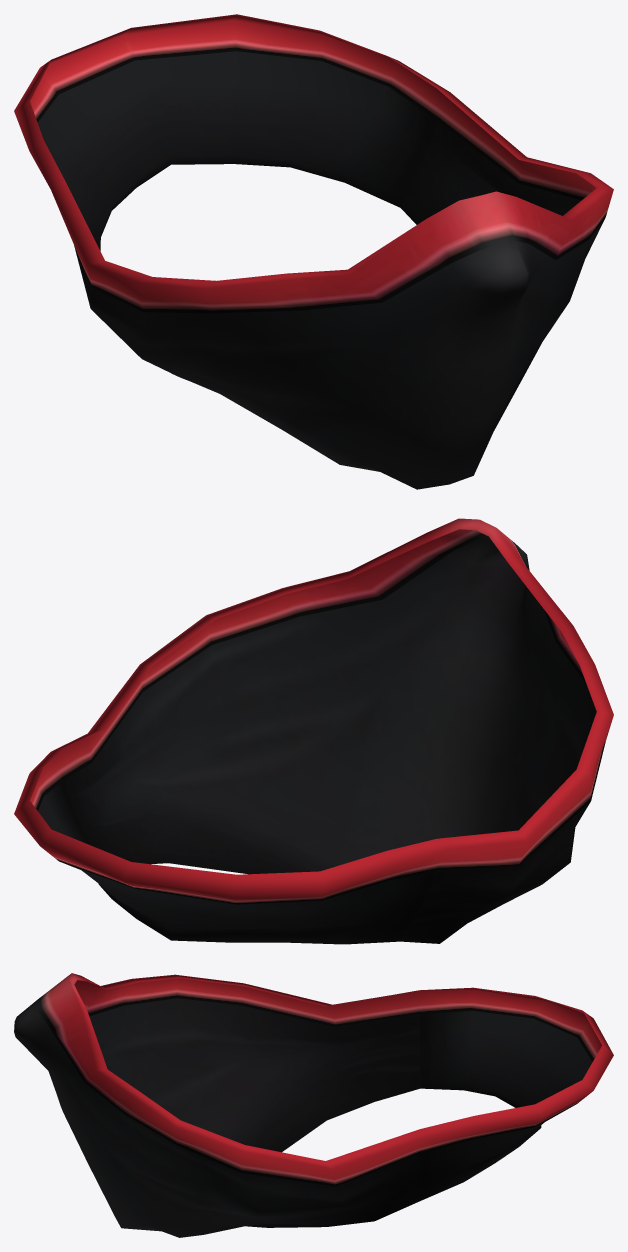
The model's file is m_mask_verizon2020.fbx.
The picture shows the model from 3 angles, top to bottom: view 1: azimuth 30°, elevation 25°; view 2: azimuth 150°, elevation 25°; view 3: azimuth 270°, elevation 25°; orthographic projection. The views are drawn at different scales.
Visible parts, largest first — view 1: m_mask_verizon2020; view 2: m_mask_verizon2020; view 3: m_mask_verizon2020.
Part boxes in pixels (box(x1,y1,x2,y2)): m_mask_verizon2020: box(14, 14, 613, 489); m_mask_verizon2020: box(14, 518, 613, 944); m_mask_verizon2020: box(14, 973, 613, 1237).
Bounding box in the file's own units: 8.64 × 5.81 × 12.99.
1 material, 1 textured.
